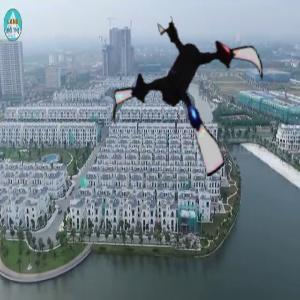drone: (108, 12, 276, 180)
